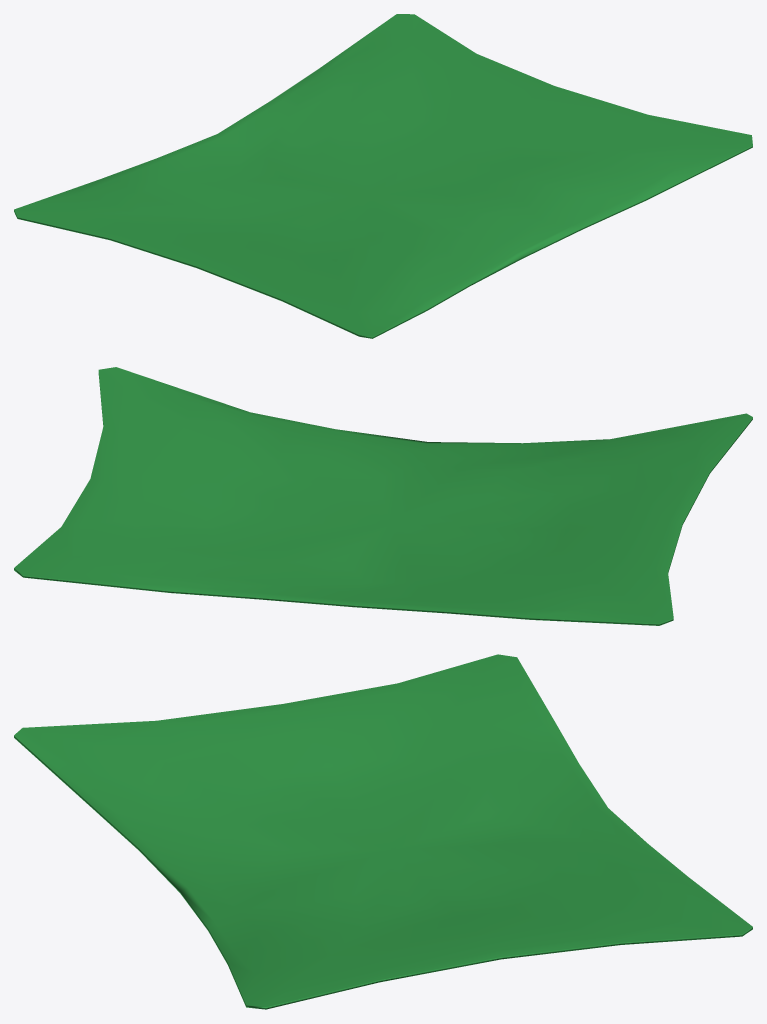
The model's file is Enviro_MarketTop_Green_Creole_Untextured.fbx.
3 views of the same model, one above another, from view 1: azimuth 30°, elevation 25°; view 2: azimuth 150°, elevation 25°; view 3: azimuth 270°, elevation 25° (orthographic). The views are drawn at different scales.
Visible parts, largest first — view 1: Cloth_Green; view 2: Cloth_Green; view 3: Cloth_Green.
Part boxes in pixels (bbox=[...]): Cloth_Green: bbox=[14, 14, 752, 338]; Cloth_Green: bbox=[14, 367, 752, 625]; Cloth_Green: bbox=[14, 654, 752, 1009].
Size of the model in its own units: 5.97 by 0.2883 by 5.26.
